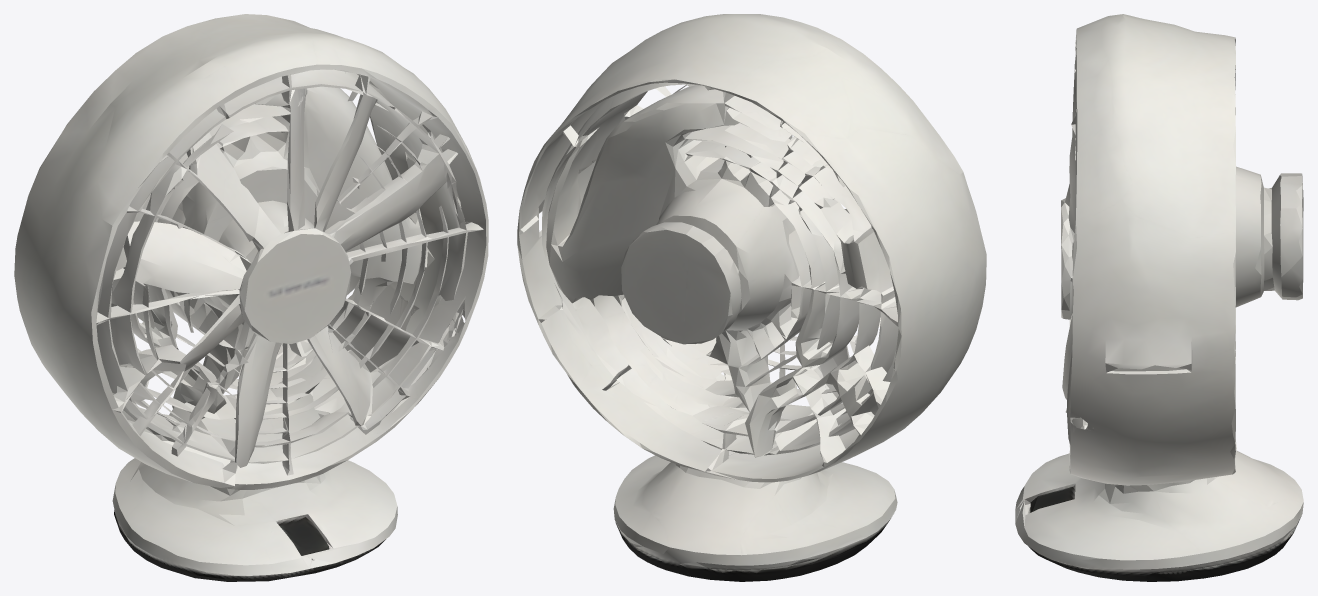
Rendered from fan.glb.
3 views of the same model, side by side, from view 1: azimuth 30°, elevation 25°; view 2: azimuth 150°, elevation 25°; view 3: azimuth 270°, elevation 25° (orthographic).
Visible parts, largest first — view 1: model; view 2: model; view 3: model.
Part boxes in pixels (left/top/right/bottom): model: left=14, top=14, right=488, bottom=581; model: left=517, top=14, right=986, bottom=581; model: left=1015, top=14, right=1303, bottom=581.
Bounding box in the file's own units: 1.68 × 1.9 × 1.01.
Materials: 1 (1 with a texture image).
